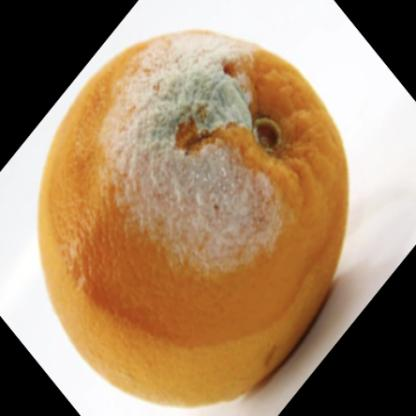rotten: (41, 31, 351, 413)
